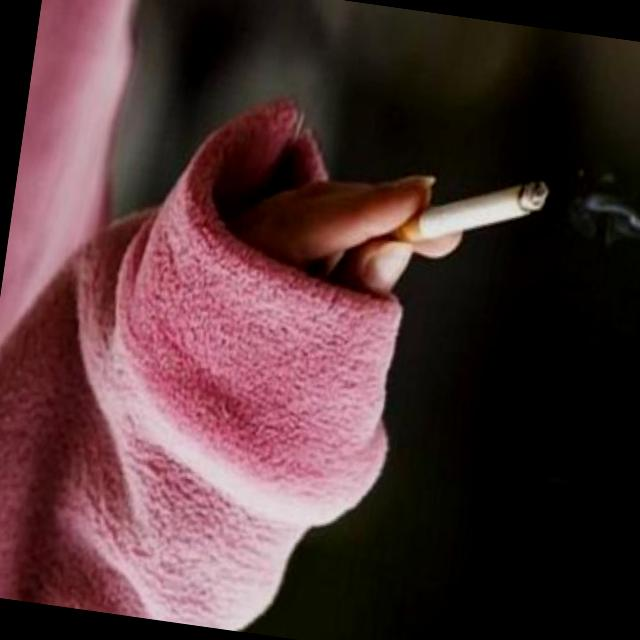cigarette: (392, 159, 548, 262)
